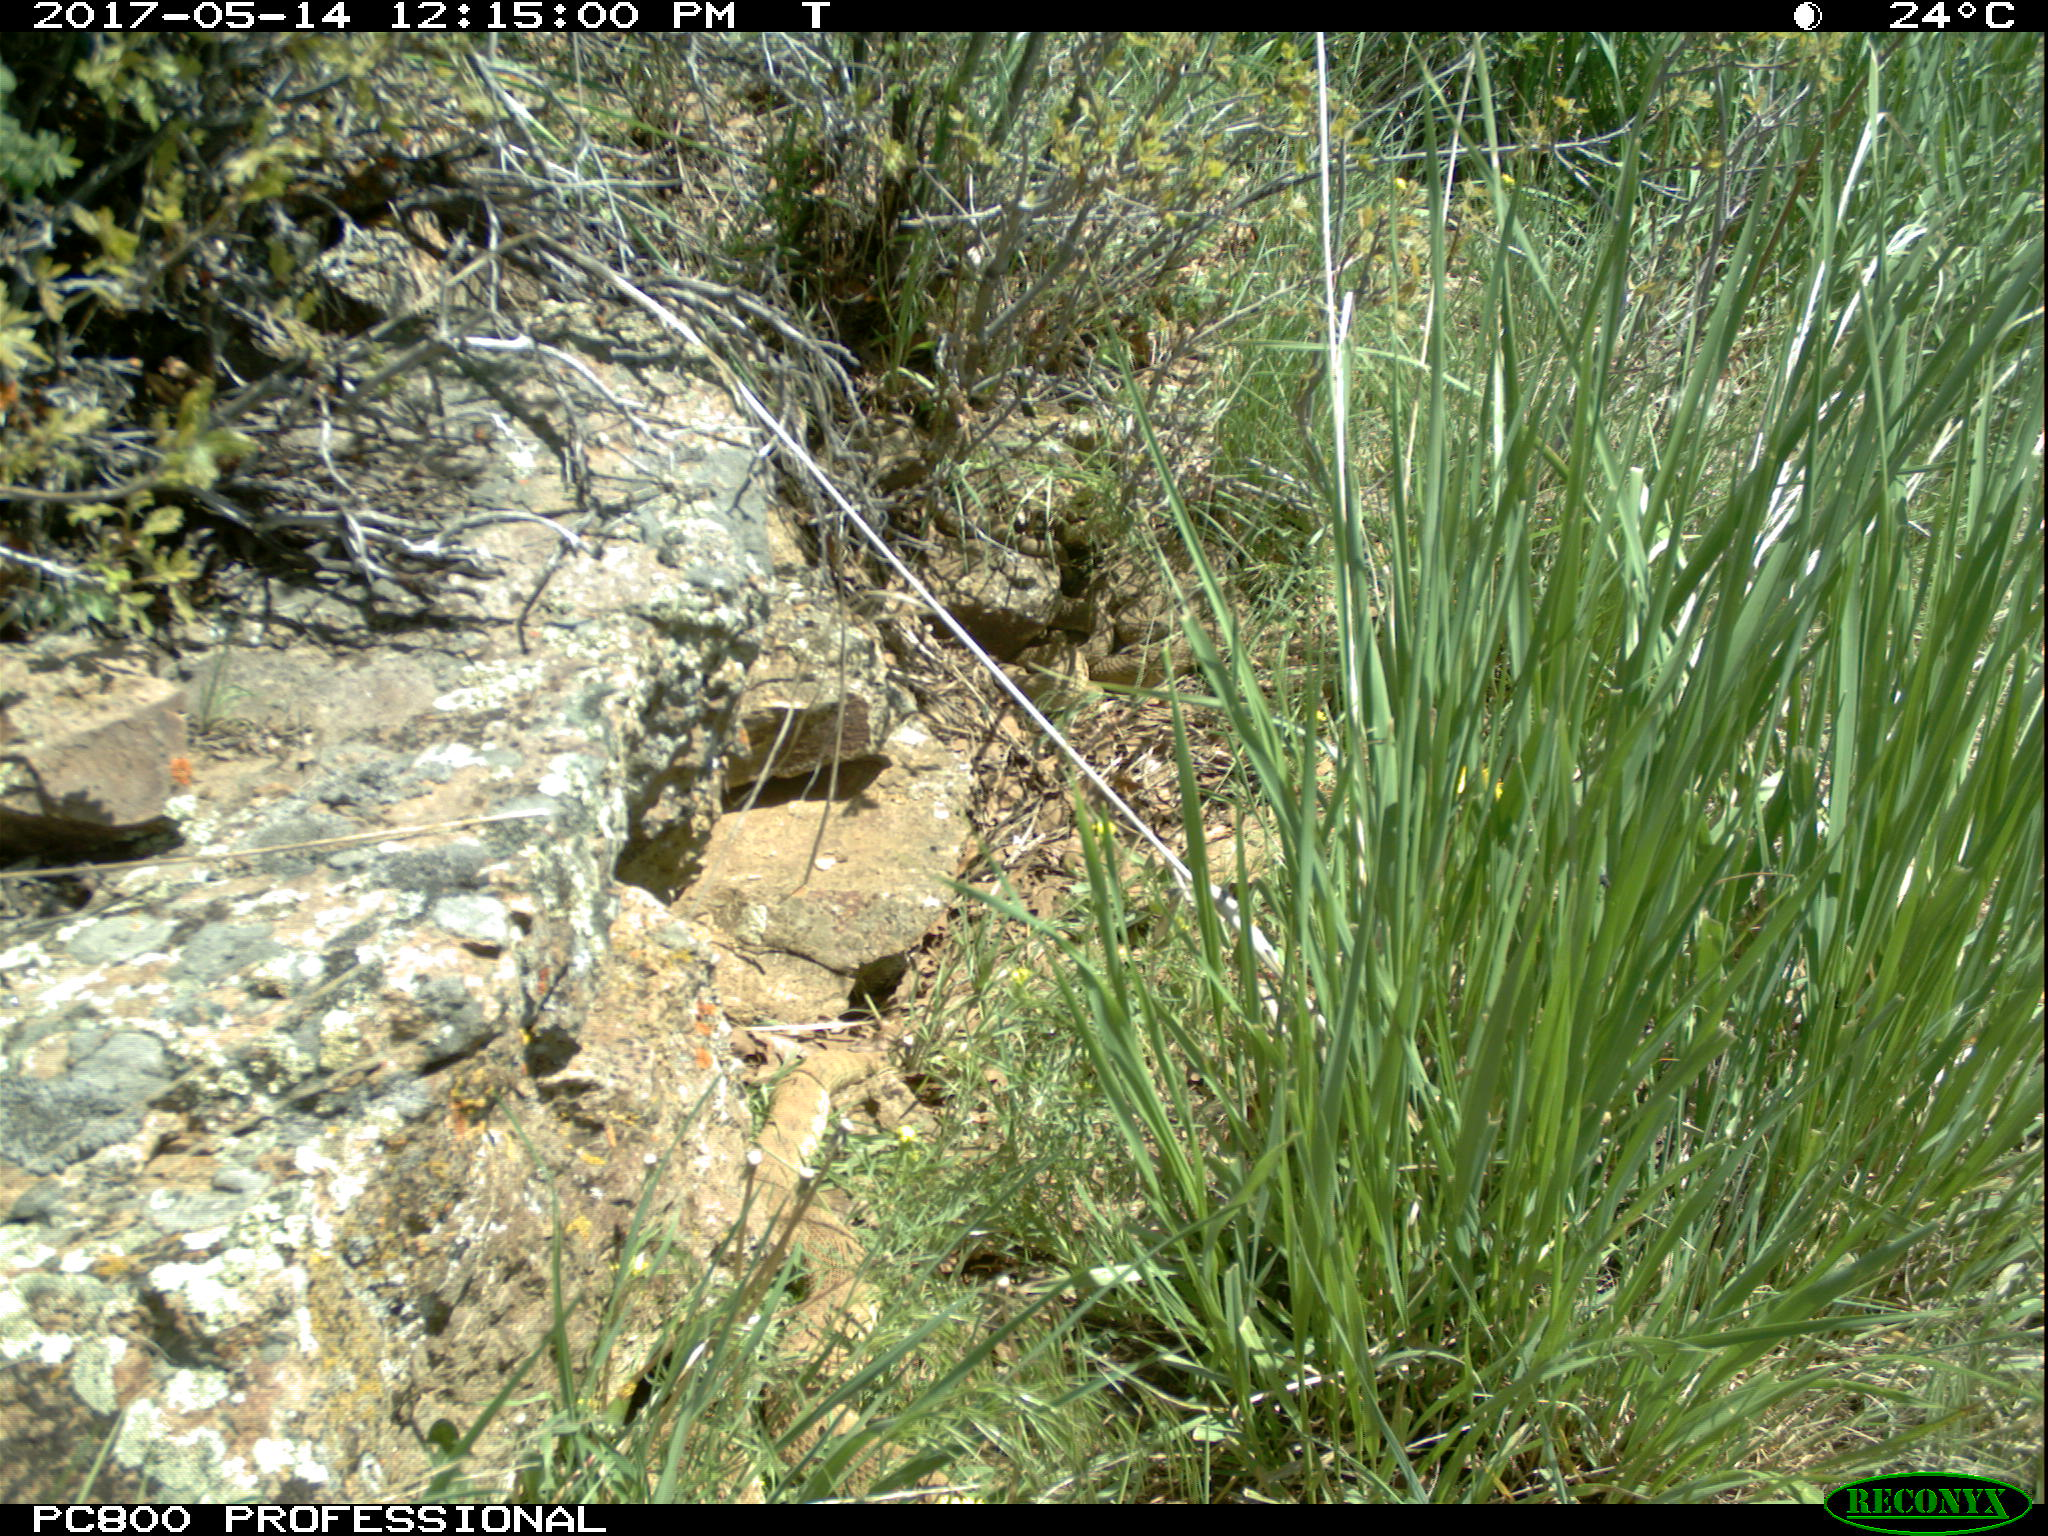snake: (747, 1044, 892, 1501), (1080, 629, 1219, 686)
